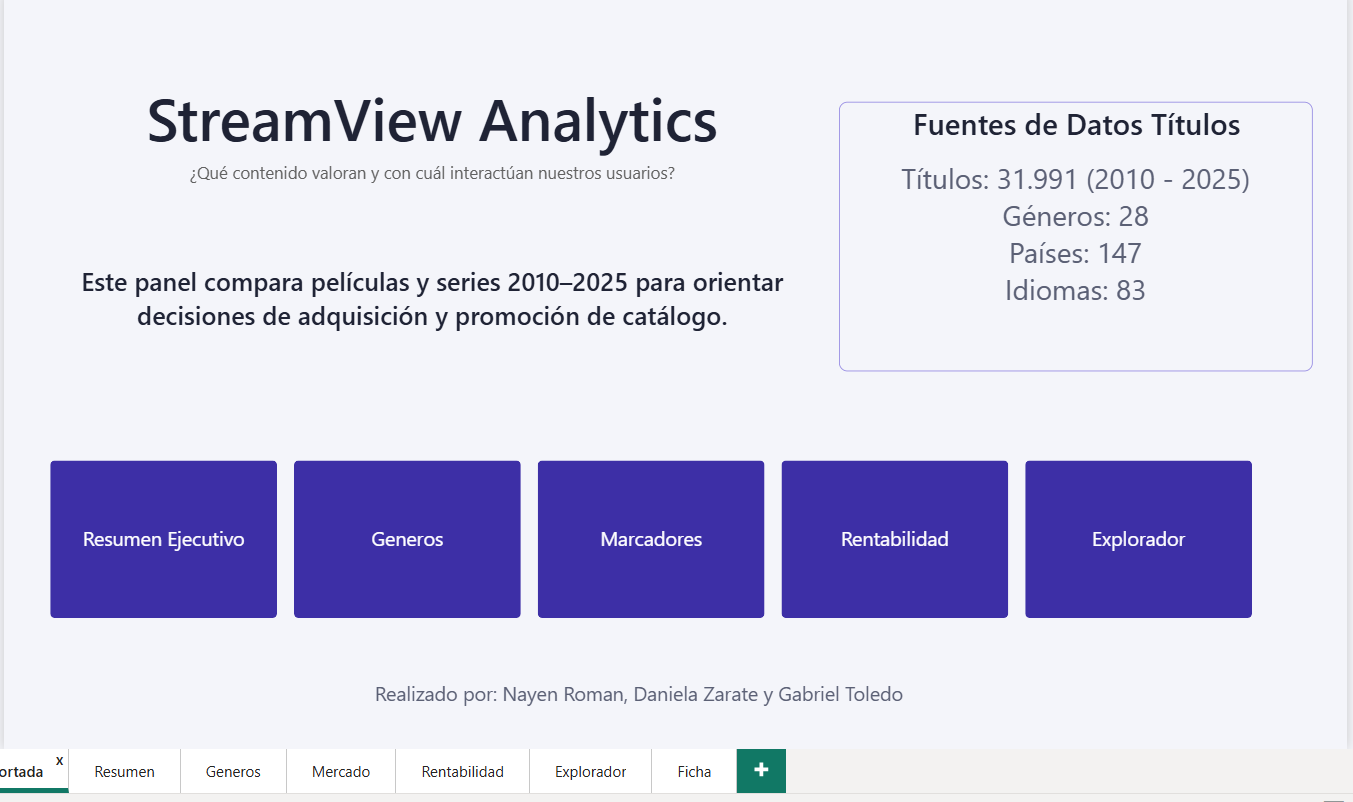

What the dashboard file says about the page in this screenshot:
{"tool":"powerbi","page":{"name":"Portada","canvas":[1280,720],"ordinal":0},"visuals":[{"type":"textbox","title":"StreamView Analytics","box":[67.8,80,680,190],"z":0},{"type":"textbox","title":"Este panel compara películas y series 2010–2025 para orientar decisiones de adquisición y promoción de catálogo.","box":[67.8,258.9,680,140],"z":1000},{"type":"actionButton","box":[44.4,445,216,150],"z":2000},{"type":"actionButton","box":[276.4,445,216,150],"z":3000},{"type":"actionButton","box":[740.4,445,216,150],"z":4000},{"type":"actionButton","box":[508.4,445,216,150],"z":5000},{"type":"actionButton","box":[972.4,445,216,150],"z":6000},{"type":"textbox","title":"Fuentes de Datos Títulos","box":[795.6,103.3,451.1,256.7],"z":7000},{"type":"textbox","box":[38,112,664,80],"z":8000},{"type":"textbox","box":[100,654.4,1014.4,40],"z":8001}]}

Visuals, with their boxes on the page's 1280x720 design canvas (x1, y1, x2, y2). These are canvas units, not pixel positions in the 1353x802 screenshot, which may show the page scaled, cropped or inside an application window:
"StreamView Analytics" textbox: [x1=68, y1=80, x2=748, y2=270]
"Este panel compara películas y series 2010–2025 para orientar decisiones de adquisición y promoción de catálogo." textbox: [x1=68, y1=259, x2=748, y2=399]
actionButton: [x1=44, y1=445, x2=260, y2=595]
actionButton: [x1=276, y1=445, x2=492, y2=595]
actionButton: [x1=740, y1=445, x2=956, y2=595]
actionButton: [x1=508, y1=445, x2=724, y2=595]
actionButton: [x1=972, y1=445, x2=1188, y2=595]
"Fuentes de Datos Títulos" textbox: [x1=796, y1=103, x2=1247, y2=360]
textbox: [x1=38, y1=112, x2=702, y2=192]
textbox: [x1=100, y1=654, x2=1114, y2=694]
